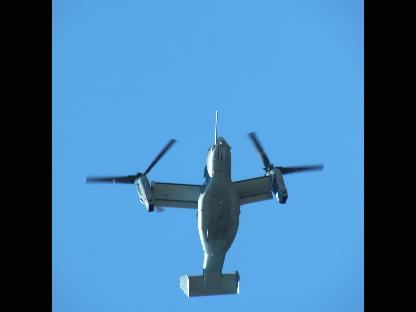Tornado: (84, 108, 324, 296)
